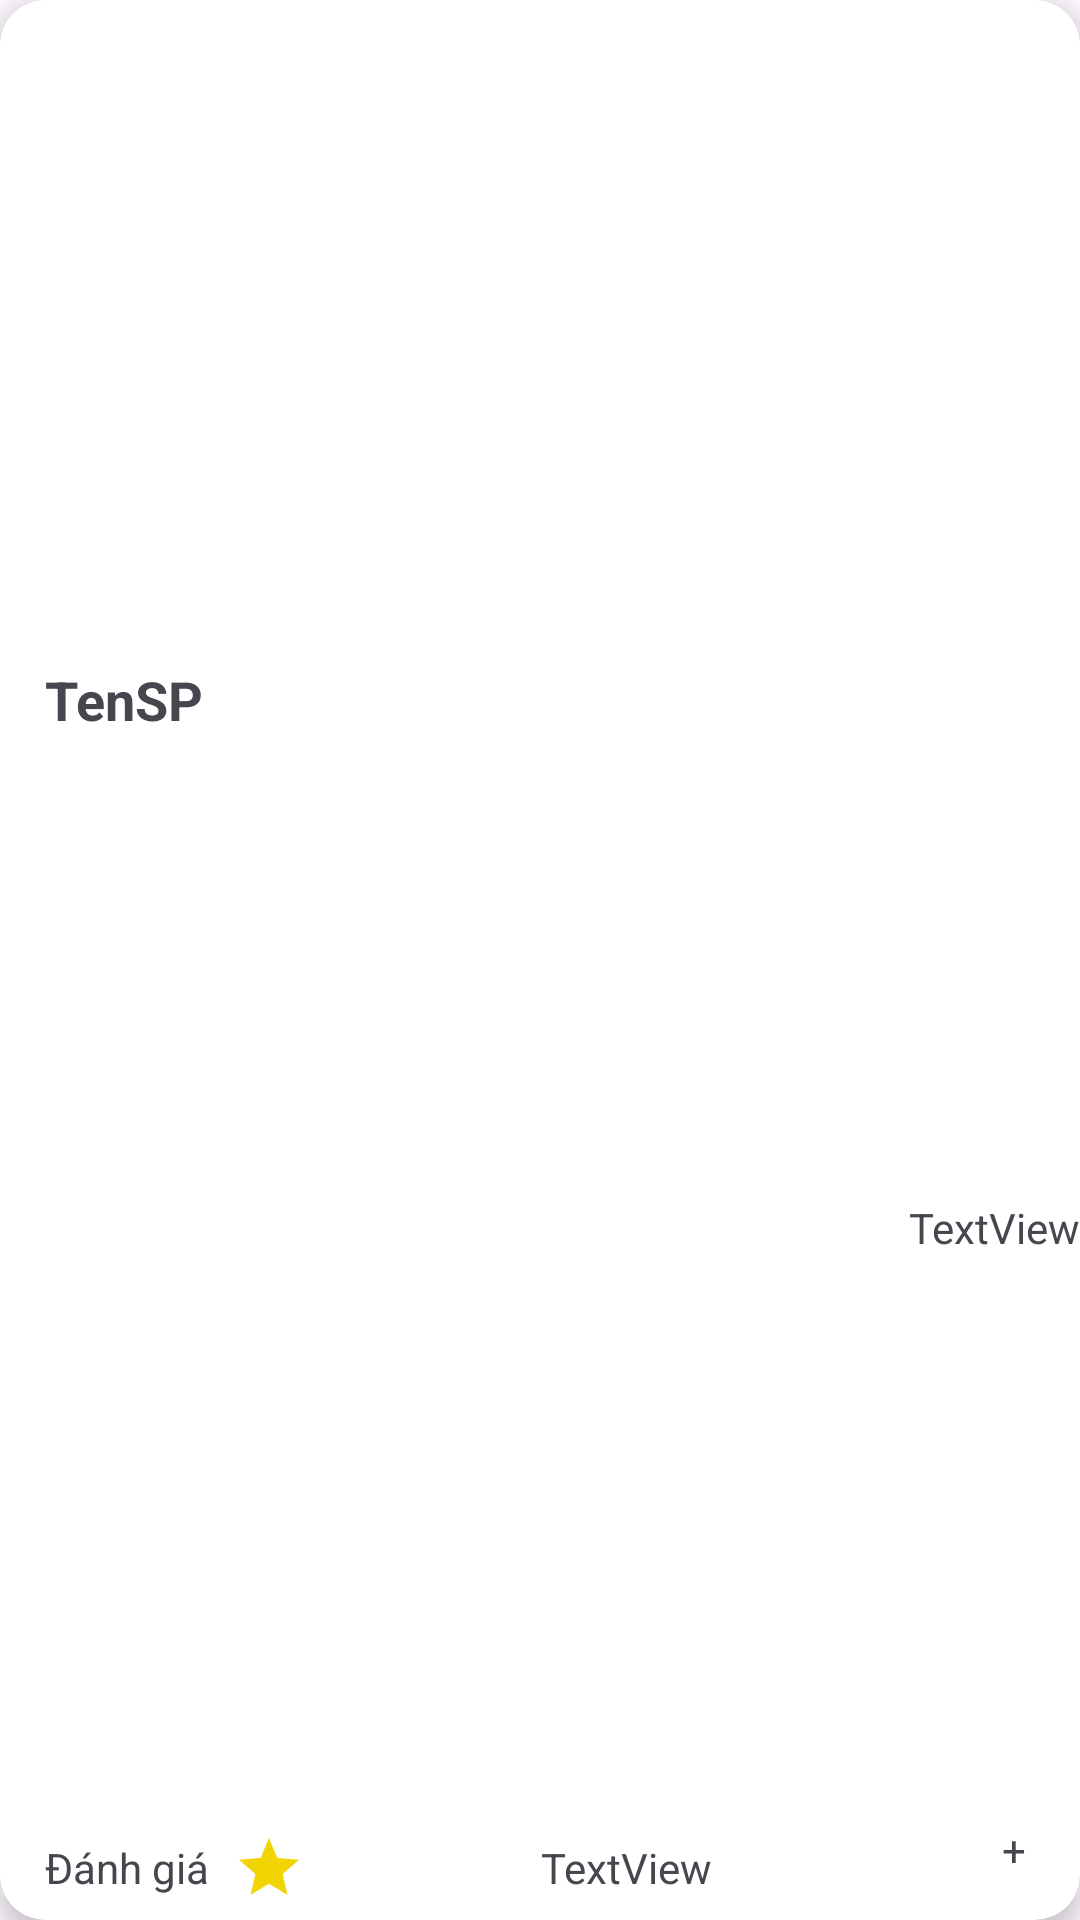

Where to tap for icons on this 1080×1920 app screen, as [x,y]:
star: [269,1866]
